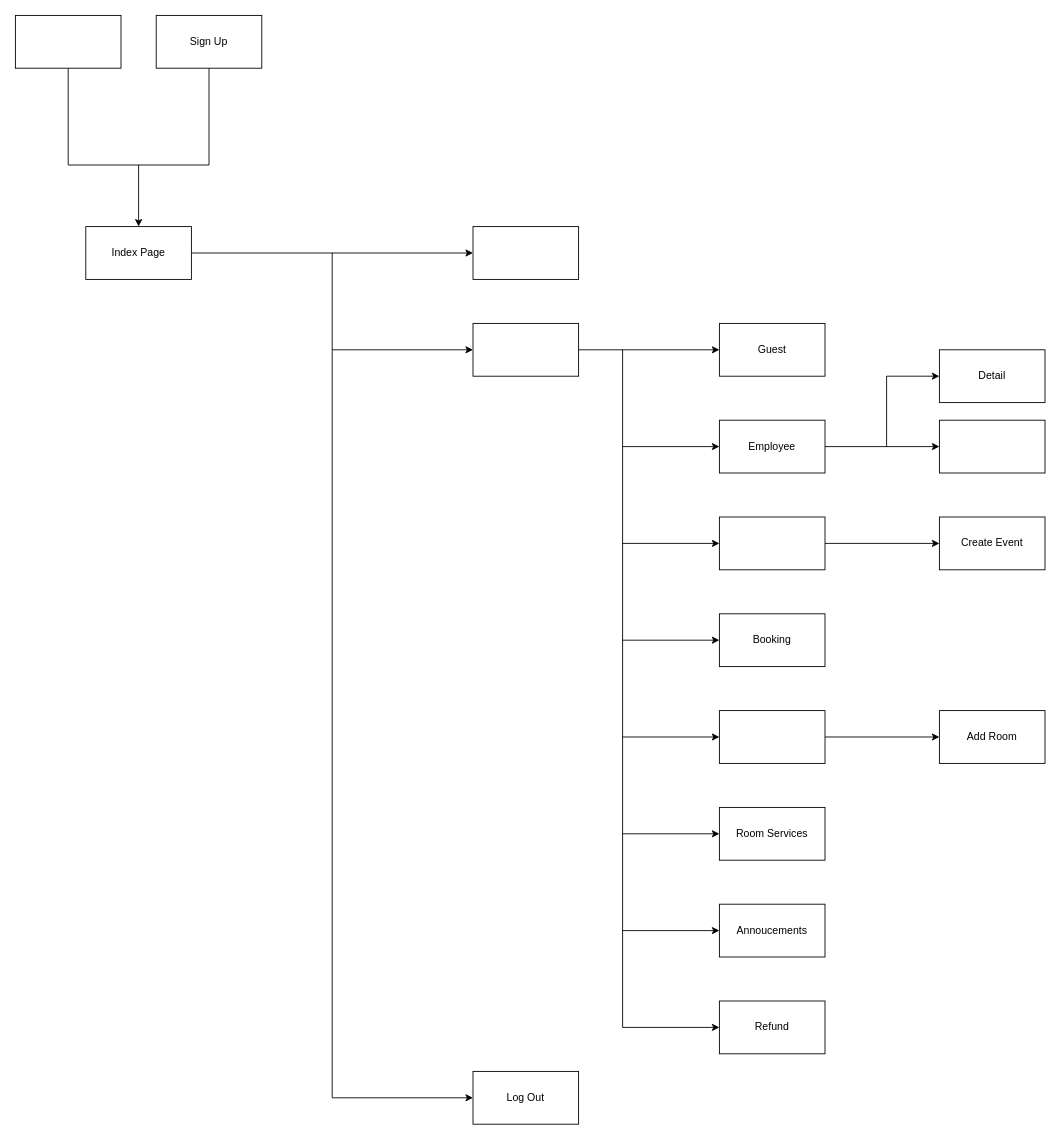
The diagram is 1060 pixels wide and 1140 high, and some of its shapes have lost their labels. The centre of each missing label's shape, as x and y in pixels:
Add New Employee: the point at 992,446
Events: the point at 772,543
Log In: the point at 68,41
Options: the point at 525,349
Profile: the point at 525,252
Rooms: the point at 772,736
